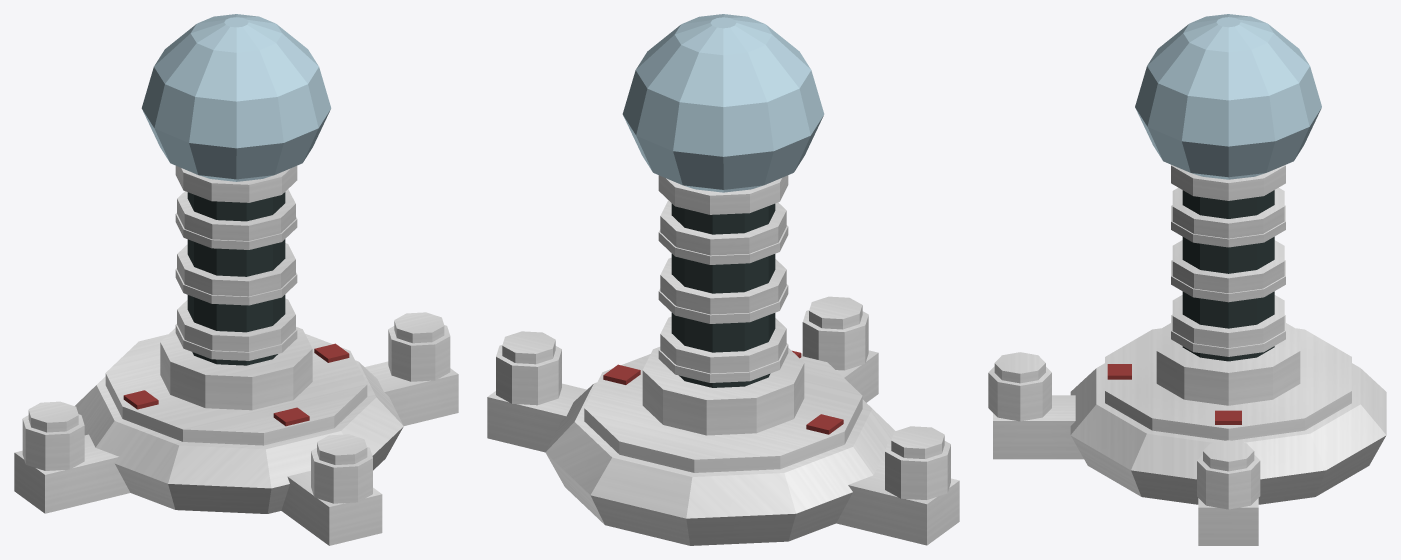
The model's file is mech_booster.obj.
The picture shows the model from 3 angles, left to right: view 1: azimuth 30°, elevation 25°; view 2: azimuth 150°, elevation 25°; view 3: azimuth 270°, elevation 25°; orthographic projection. The views are drawn at different scales.
Parts seen in each view (by area): view 1: mech_booster; view 2: mech_booster; view 3: mech_booster.
Boxes of the visible parts, left/top/right/bottom form: mech_booster: left=14, top=14, right=458, bottom=545; mech_booster: left=487, top=14, right=959, bottom=545; mech_booster: left=988, top=14, right=1386, bottom=545.
Size of the model in its own units: 1.59 by 1.55 by 1.32.
